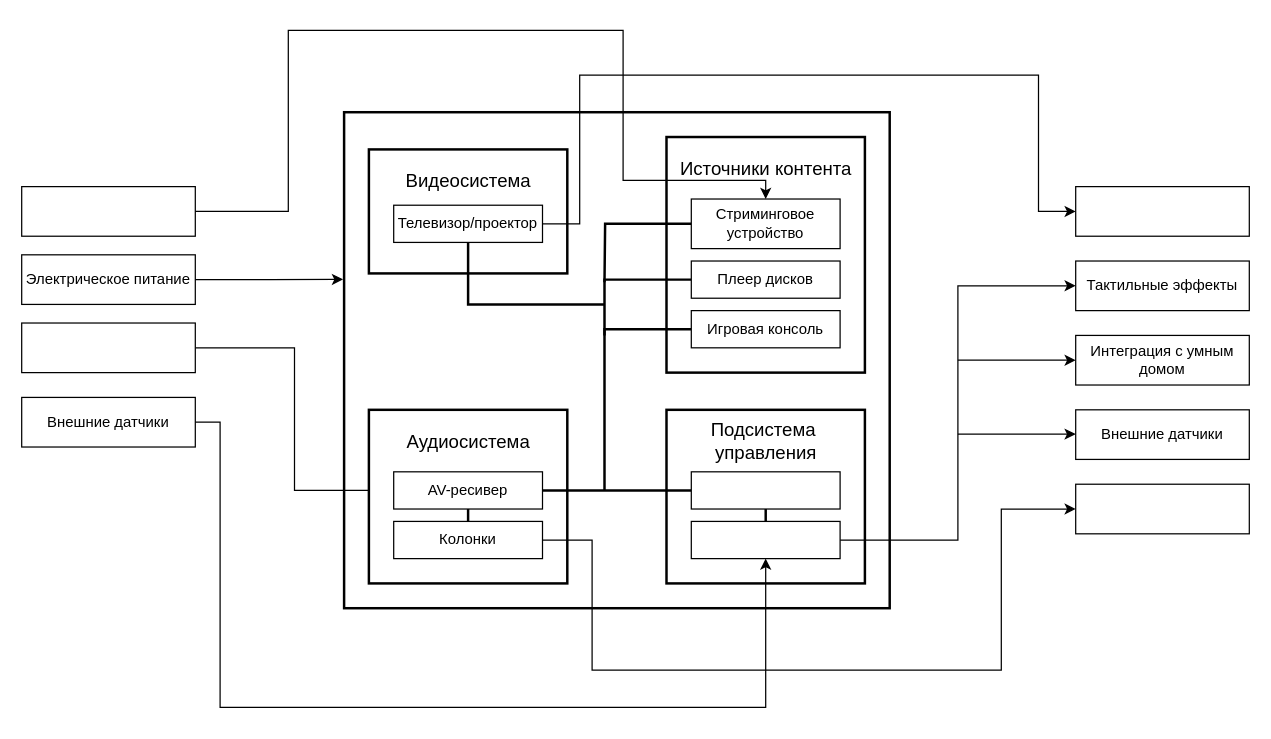
Image size: 1271x739. Some labels were removed from this diagram. Here are the shapes that lost their labels. From the top down, the box of each, then its label:
(20, 185, 195, 236): Wi-Fi роутер
(1074, 185, 1249, 236): Видеоизображение
(20, 322, 195, 373): Внешние устройства
(690, 471, 840, 509): Пульт ДУ
(1074, 483, 1249, 534): Звук
(690, 520, 840, 559): Смарт-хаб
